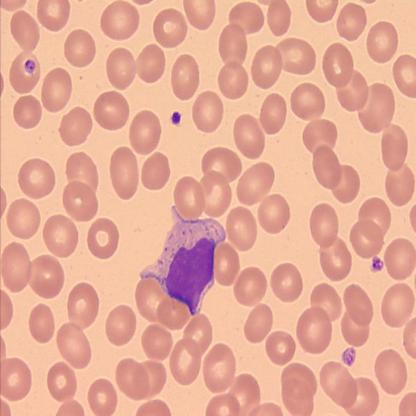Atypical lymphocyte: (140, 206, 227, 312)
